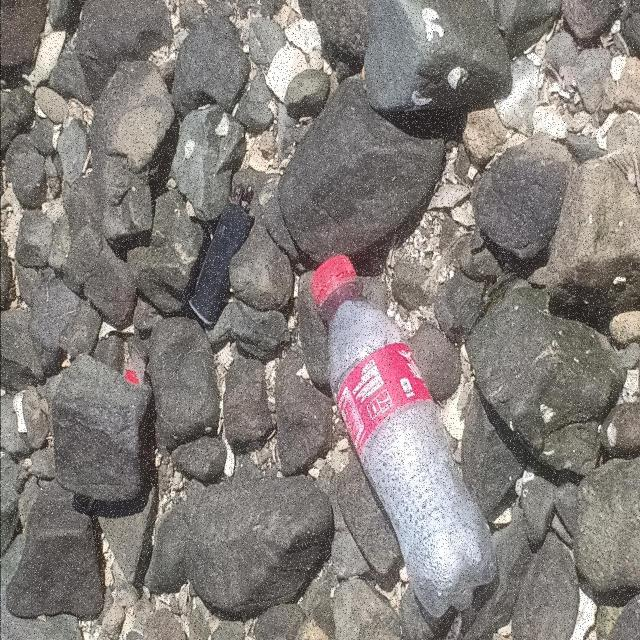plastic_waste: (309, 254, 499, 618)
